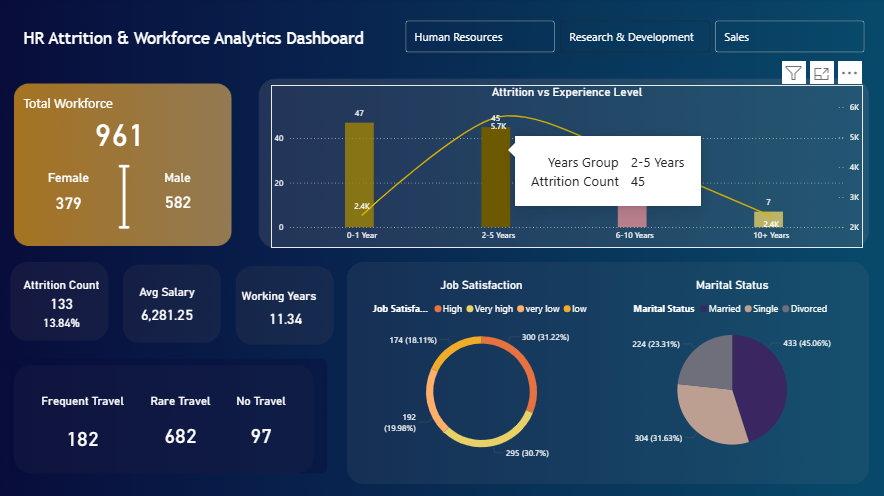

What the dashboard file says about the page in this screenshot:
{"tool":"powerbi","page":{"name":"Page 1","canvas":[1280,720],"ordinal":0},"visuals":[{"type":"kpi","title":"Total Workforce","fields":{"Indicator":["Hr.Total Employees"],"TrendLine":["Hr.Department"]},"box":[33.1,139.7,286.6,89.3],"z":0},{"type":"kpi","title":"Female","fields":{"TrendLine":["Hr.Department"],"Indicator":["Hr.Female Count"]},"box":[33.1,247.7,139.7,74.9],"z":1000},{"type":"kpi","title":"Male","fields":{"Indicator":["Hr.Male Count"],"TrendLine":["Hr.Department"]},"box":[200.2,247.7,119.5,70.6],"z":2000},{"type":"advancedSlicerVisual","fields":{"Values":["Hr.Department"]},"box":[583.2,27.4,673.9,56.2],"z":3000},{"type":"kpi","fields":{"Indicator":["Hr.Attrition Rate"],"TrendLine":["Hr.Department"]},"box":[47.5,447.8,90.7,38.9],"z":4000},{"type":"pieChart","title":"Marital Status","fields":{"Category":["Hr.Marital Status"],"Y":["CountNonNull(Hr.Employee Number)"]},"box":[859,403.9,398,269.3],"z":5000},{"type":"donutChart","title":"Job Satisfaction","fields":{"Category":["Hr.Job Satisfaction"],"Y":["CountNonNull(Hr.Employee Number)"]},"box":[517,403.2,361.4,275],"z":6000},{"type":"kpi","title":"Attrition Count","fields":{"Indicator":["Hr.Attrition Count"],"TrendLine":["Hr.Department"]},"box":[25.9,403.2,133.9,56.2],"z":7000},{"type":"lineClusteredColumnComboChart","title":"Attrition vs Experience Level","fields":{"Category":["Hr.Years Group"],"Y":["Hr.Attrition Count"],"Y2":["Sum(Hr.Salary hike percentage)"]},"box":[394.6,125.3,852.5,234.7],"z":8000},{"type":"kpi","title":"Avg Salary","fields":{"Indicator":["Hr.Avg Salary"],"TrendLine":["Hr.Department"]},"box":[184.3,413.3,121,67.7],"z":9000},{"type":"kpi","title":"Rare Travel ","fields":{"Indicator":["Hr.Rare Travel Employees"],"TrendLine":["Hr.Department"]},"box":[181.4,570.2,165.6,102.2],"z":10000},{"type":"kpi","title":"No Travel ","fields":{"Indicator":["Hr.No Travel Employees"],"TrendLine":["Hr.Department"]},"box":[334.1,570.2,149.8,102.2],"z":11000},{"type":"kpi","title":"Frequent Travel ","fields":{"Indicator":["Hr.Frequent Travel Employees"],"TrendLine":["Hr.Department"]},"box":[47.5,570.2,151.2,102.2],"z":12000},{"type":"kpi","title":"Working Years","fields":{"Indicator":["Avg(Hr.Total Working Years)"],"TrendLine":["Hr.Department"]},"box":[347,419,136.8,67.7],"z":13000},{"type":"textbox","box":[33.1,38.9,502.6,60.5],"z":14000}]}

Visuals, with their boxes in screenshot pixels (x1, y1, x2, y2), scaled from the page's 1280x720 canvas onto the 884x496 screenshot:
"Total Workforce" kpi: <region>23, 96, 221, 158</region>
"Female" kpi: <region>23, 171, 119, 222</region>
"Male" kpi: <region>138, 171, 221, 219</region>
advancedSlicerVisual - Hr.Department: <region>403, 19, 868, 58</region>
kpi - Hr.Attrition Rate x Hr.Department: <region>33, 308, 95, 335</region>
"Marital Status" pieChart: <region>593, 278, 868, 464</region>
"Job Satisfaction" donutChart: <region>357, 278, 607, 467</region>
"Attrition Count" kpi: <region>18, 278, 110, 316</region>
"Attrition vs Experience Level" lineClusteredColumnComboChart: <region>273, 86, 861, 248</region>
"Avg Salary" kpi: <region>127, 285, 211, 331</region>
"Rare Travel " kpi: <region>125, 393, 240, 463</region>
"No Travel " kpi: <region>231, 393, 334, 463</region>
"Frequent Travel " kpi: <region>33, 393, 137, 463</region>
"Working Years" kpi: <region>240, 289, 334, 335</region>
textbox: <region>23, 27, 370, 68</region>
